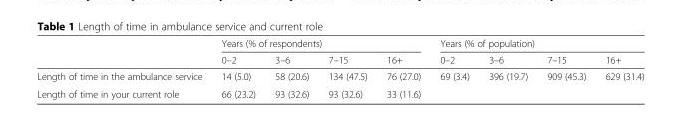table: (36, 37, 643, 99)
table column: (36, 37, 211, 99), (536, 37, 595, 99), (318, 37, 376, 99), (478, 37, 536, 99), (264, 37, 318, 99), (211, 37, 264, 99), (376, 37, 429, 99), (429, 37, 478, 99), (595, 37, 643, 99)
table column header: (36, 37, 643, 67)
table row: (36, 67, 643, 84), (36, 51, 643, 67), (36, 84, 643, 99), (36, 37, 643, 51)
table spanning cell: (211, 37, 429, 51), (429, 37, 643, 51)
